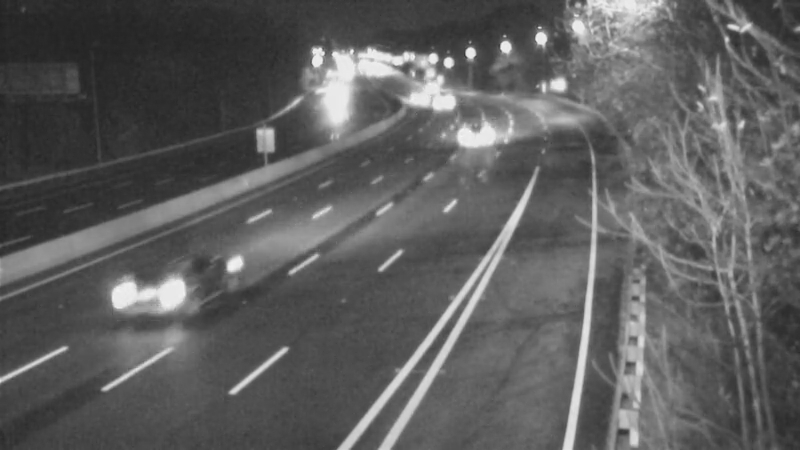vehicle: (116, 254, 196, 334), (420, 74, 470, 124), (393, 74, 443, 124), (450, 111, 500, 161), (303, 71, 353, 121)
